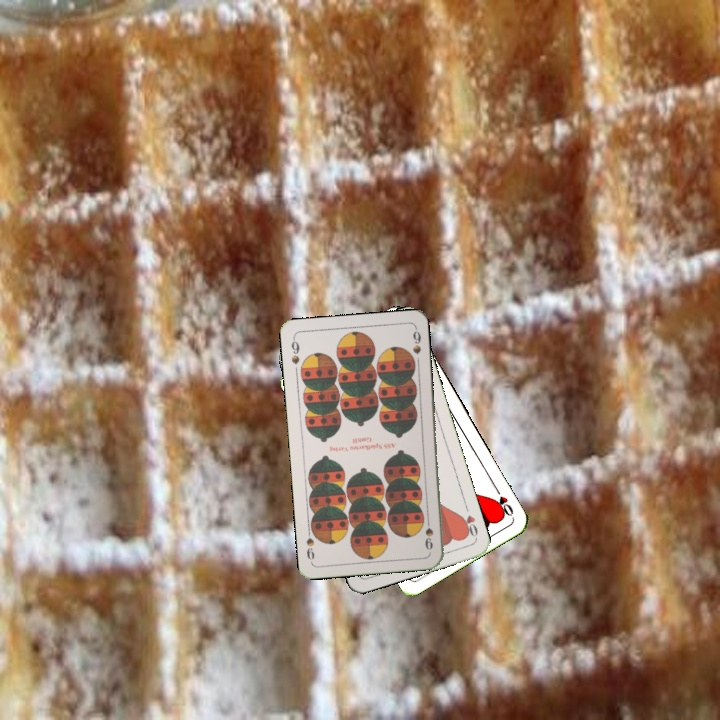HO: (490, 482, 516, 519), (457, 501, 480, 541)
S9: (421, 513, 435, 553), (287, 334, 302, 367)
